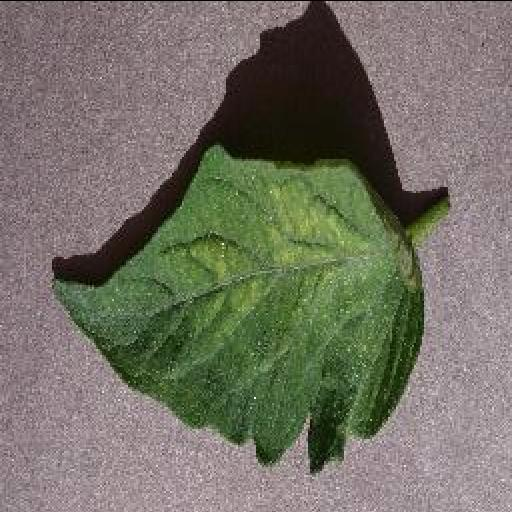disease_tomato: (50, 142, 428, 474)
